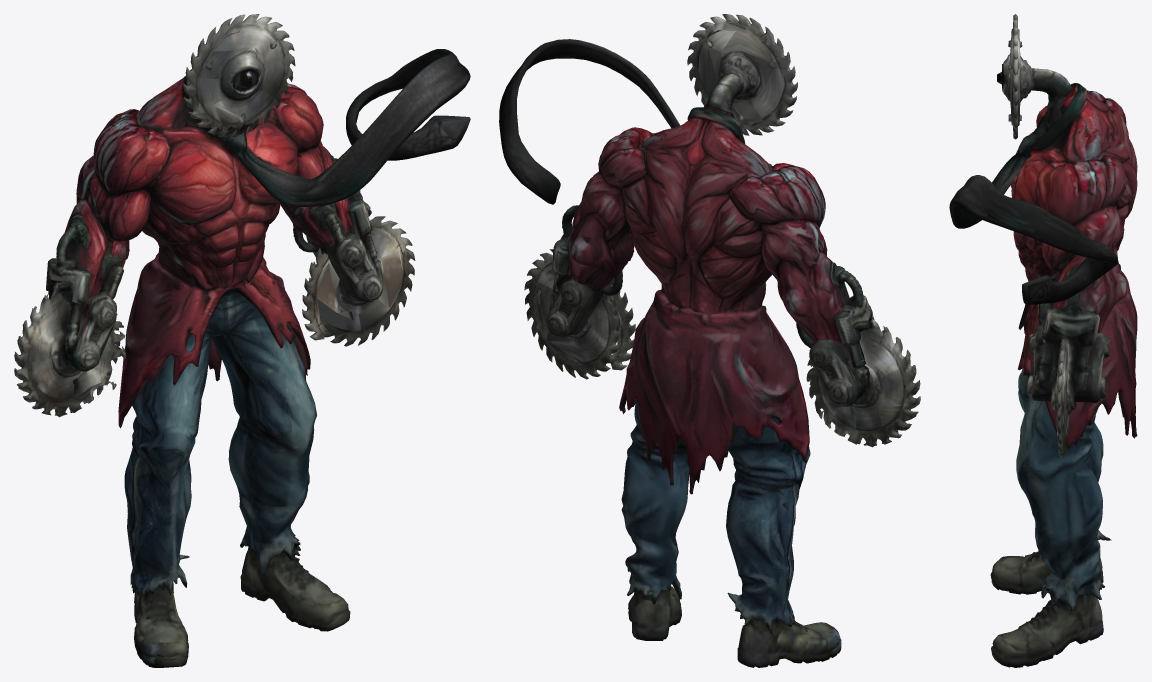
The model's file is Sawblade.fbx.
3 renders of one model, left to right at view 1: azimuth 30°, elevation 25°; view 2: azimuth 150°, elevation 25°; view 3: azimuth 270°, elevation 25°, orthographic. The views are drawn at different scales.
Visible parts, largest first — view 1: Sawblade_Body; view 2: Sawblade_Body; view 3: Sawblade_Body.
Boxes of the visible parts, bbox=[...] form: Sawblade_Body: bbox=[14, 14, 470, 667]; Sawblade_Body: bbox=[499, 14, 920, 667]; Sawblade_Body: bbox=[949, 14, 1137, 667].
Size of the model in its own units: 1.61 by 2.2 by 0.6245.
Materials: 1 (1 with a texture image).
